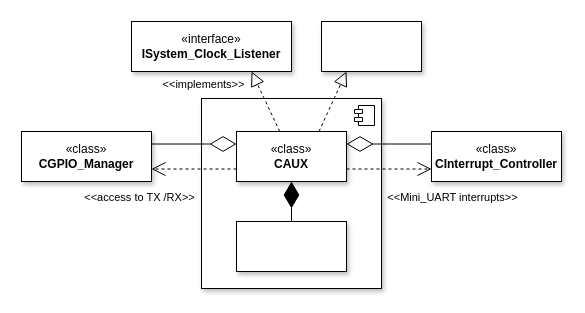
This 585x313 diagram has some shape labels left out. Each missing label, with the centre of its shape:
"«class» CMini_UART" goes at (292,247).
"«interface» IPeripheral" goes at (372,47).
